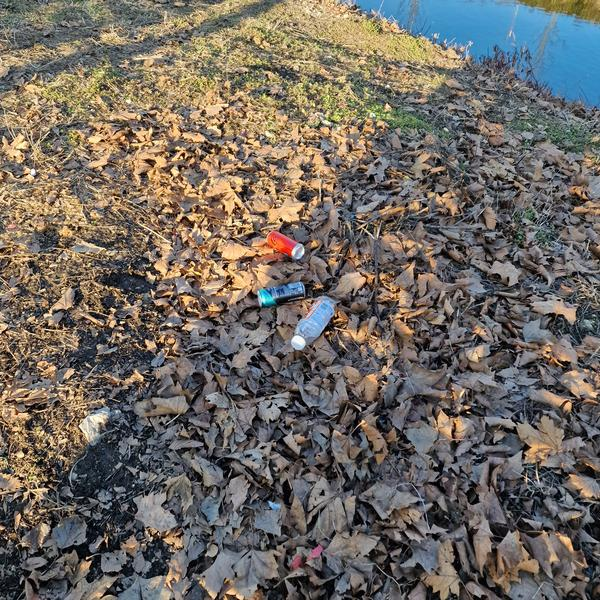can: (263, 227, 307, 263), (256, 280, 306, 308)
plastic_bottle: (284, 291, 342, 355)
